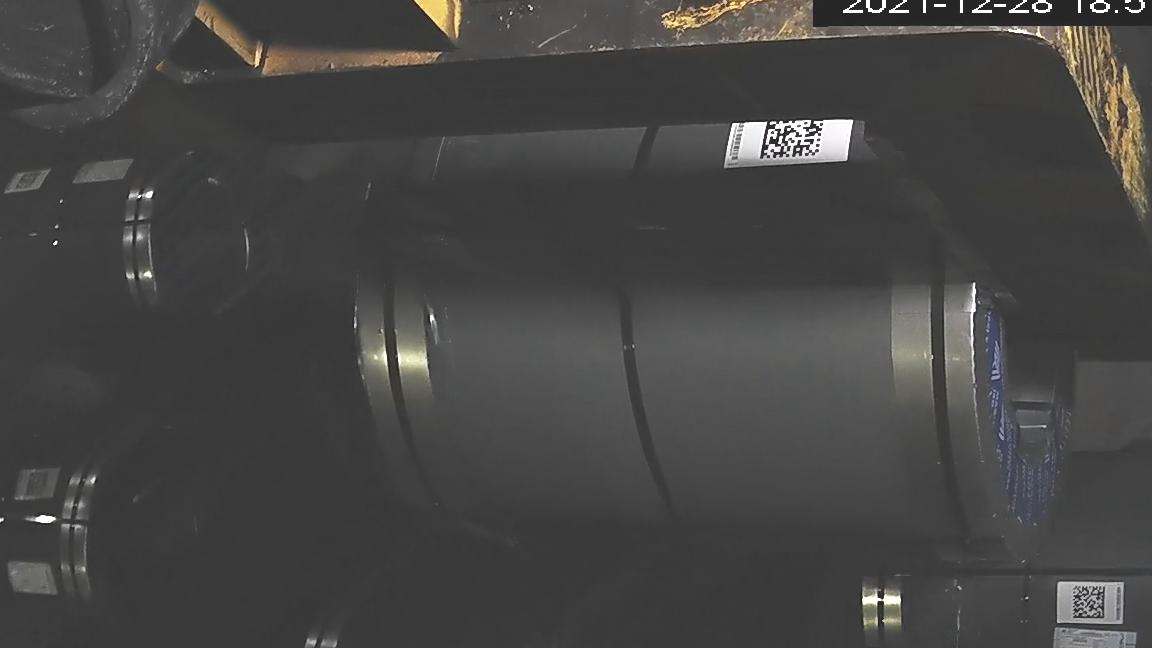data matrix: (1071, 583, 1109, 622)
